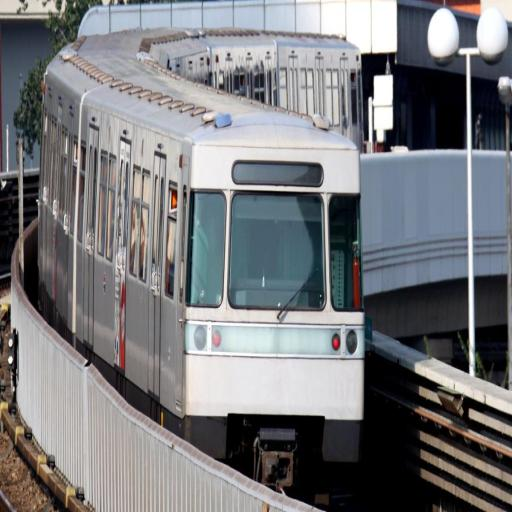Silberpfeil: (38, 20, 366, 438)
